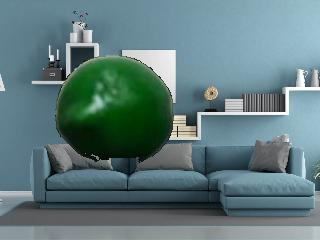lime: (54, 57, 174, 161)
